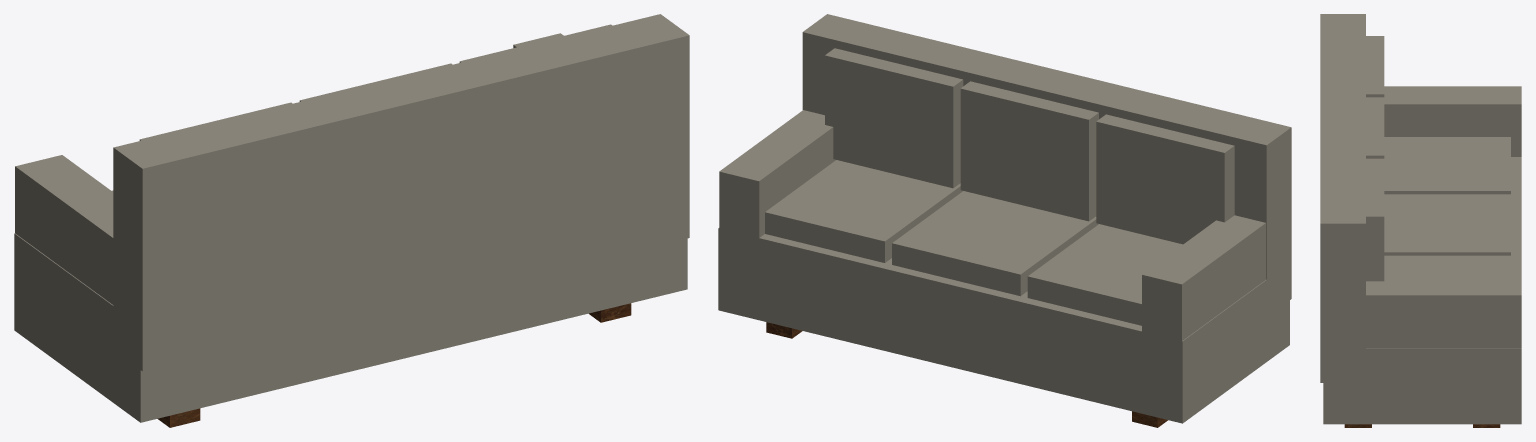
Rendered from living-sofa-rebuilt.glb.
3 renders of one model, left to right at view 1: azimuth 30°, elevation 25°; view 2: azimuth 150°, elevation 25°; view 3: azimuth 270°, elevation 25°, orthographic. The views are drawn at different scales.
Visible parts, largest first — view 1: 沙发靠背, 沙发底座, 沙发扶手; view 2: 沙发底座, 沙发靠背, 靠垫.001, 靠垫.002, 靠垫, 座垫.001, 座垫.002, 沙发扶手, 沙发扶手.001, 座垫; view 3: 沙发底座, 沙发靠背, 沙发扶手.001, 座垫.001, 座垫, 沙发扶手, 座垫.002, 靠垫.002, 靠垫.001, 靠垫.
Boxes of the visible parts, bbox=[...] form: 沙发靠背: bbox=[113, 14, 689, 371]; 沙发底座: bbox=[14, 233, 687, 422]; 沙发扶手: bbox=[15, 155, 188, 372]; 沙发底座: bbox=[718, 228, 1289, 423]; 沙发靠背: bbox=[802, 14, 1291, 316]; 靠垫.001: bbox=[960, 81, 1098, 221]; 靠垫.002: bbox=[825, 48, 963, 188]; 靠垫: bbox=[1096, 114, 1234, 244]; 座垫.001: bbox=[892, 191, 1098, 296]; 座垫.002: bbox=[765, 160, 962, 262]; 沙发扶手: bbox=[1142, 215, 1265, 381]; 沙发扶手.001: bbox=[719, 110, 835, 278]; 座垫: bbox=[1027, 224, 1182, 325]; 沙发底座: bbox=[1323, 157, 1521, 424]; 沙发靠背: bbox=[1320, 14, 1365, 382]; 沙发扶手.001: bbox=[1366, 277, 1521, 347]; 座垫.001: bbox=[1384, 194, 1510, 255]; 座垫: bbox=[1384, 137, 1510, 194]; 沙发扶手: bbox=[1384, 86, 1521, 156]; 座垫.002: bbox=[1384, 255, 1510, 277]; 靠垫.002: bbox=[1366, 158, 1384, 281]; 靠垫.001: bbox=[1366, 97, 1384, 158]; 靠垫: bbox=[1366, 36, 1384, 97].
Size of the model in its own units: 3.25 by 1.59 by 1.32.
2 materials, 1 textured.
